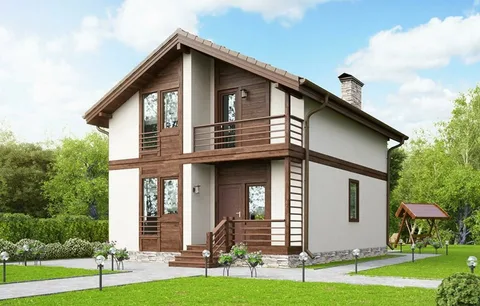private_hause: (77, 25, 392, 258)
